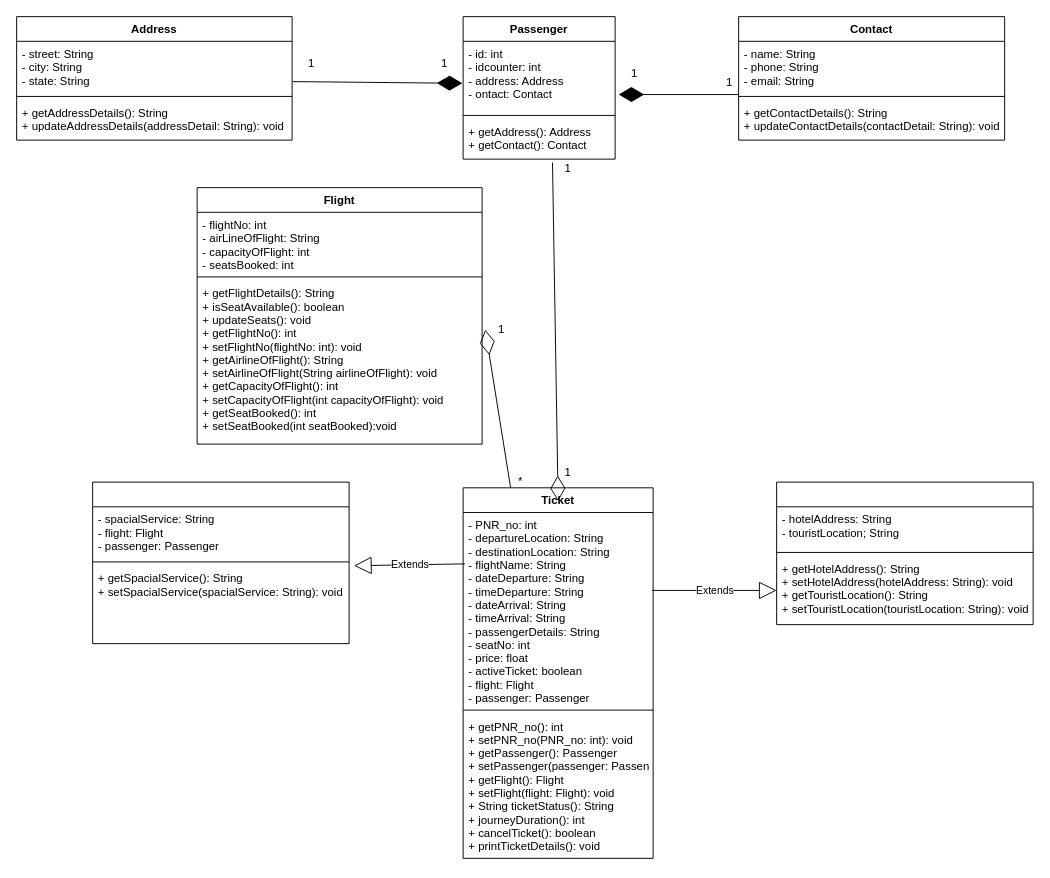
The diagram is 1050 pixels wide and 878 high, and some of its shapes have lost their labels. The box of each missing label's shape, as (x1, y1, x2, y2) in pixels:
RegularTicket: (92, 481, 349, 644)
TouristTicket: (776, 481, 1033, 625)
